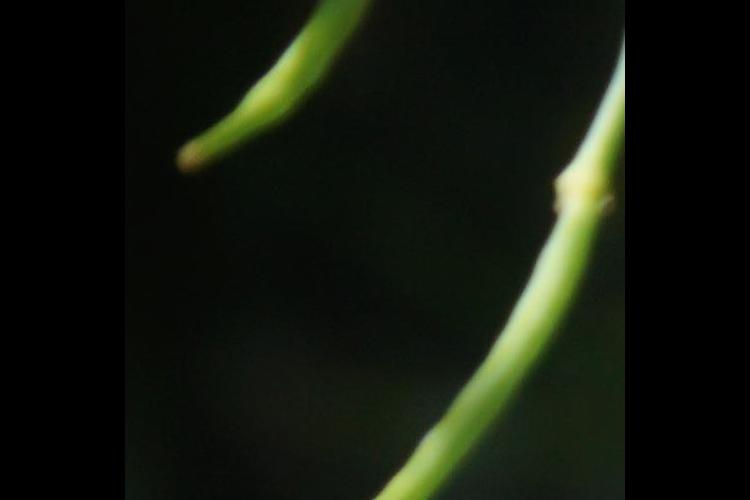pod: (255, 200, 593, 500), (159, 1, 446, 162)
